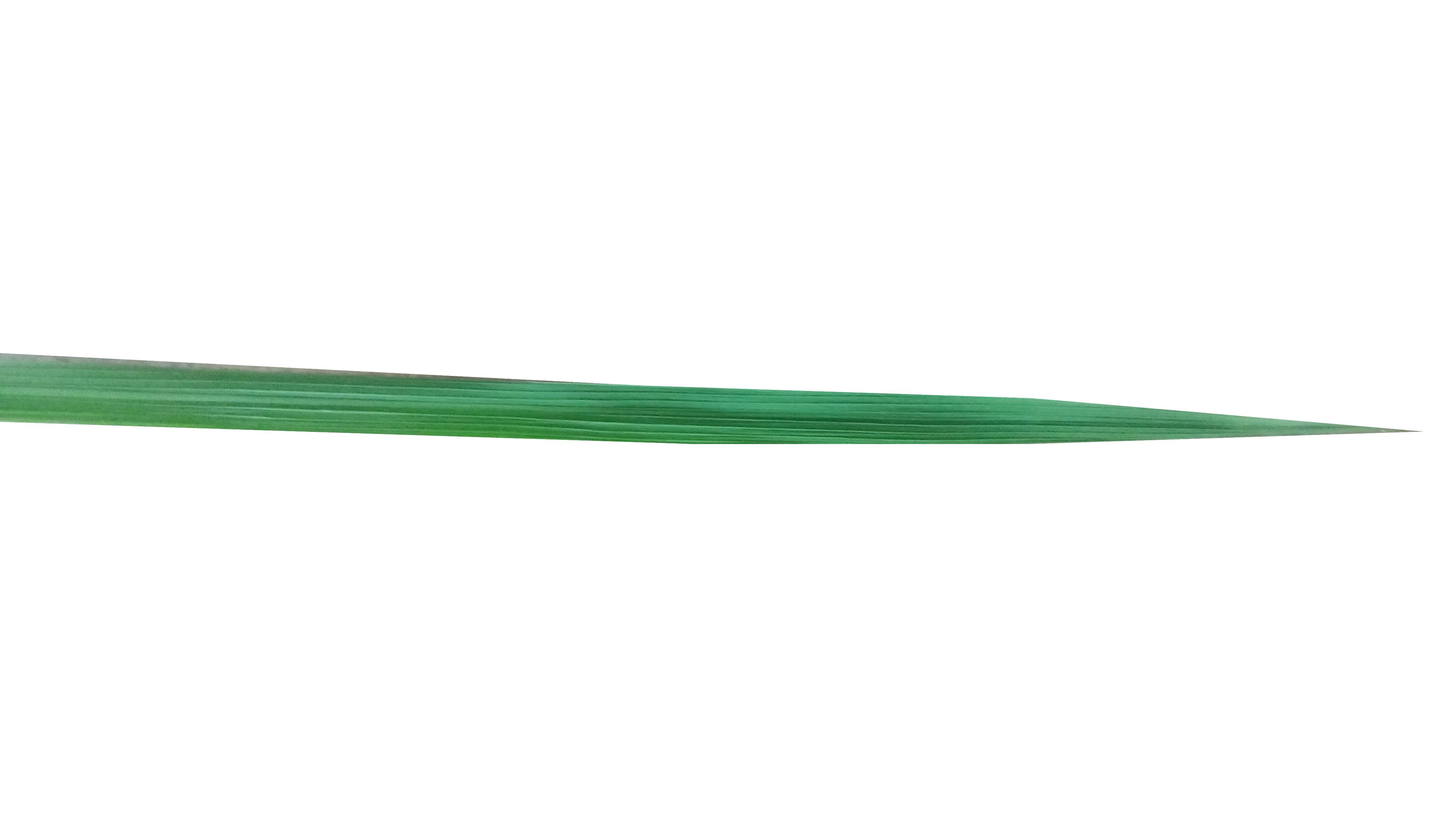Healthy: (1, 349, 1446, 455)
